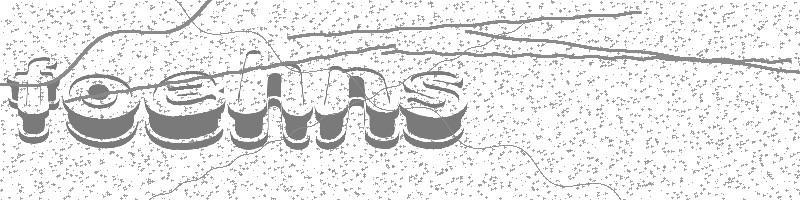e: (144, 64, 226, 150)
f: (3, 55, 65, 146)
h: (225, 45, 314, 155)
n: (311, 63, 404, 152)
o: (61, 71, 144, 150)
s: (398, 64, 470, 152)
